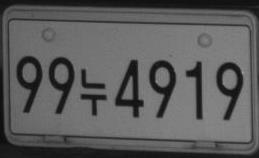1: (183, 60, 210, 119)
4: (114, 59, 144, 117)
9: (148, 59, 177, 118), (215, 61, 244, 120), (48, 55, 75, 114), (15, 55, 42, 113)
누: (79, 68, 107, 115)
